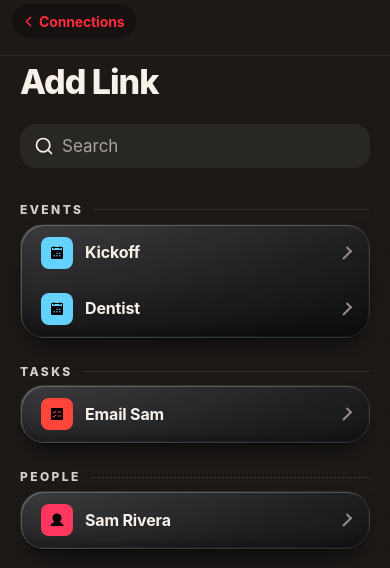
Test case: LinkPicker › search (HMN-F-26) › says so when nothing matches, without pretending there is nothing to link
In the field with placeholder "Search": (209, 146) [62,136,356,156], type "zzz"
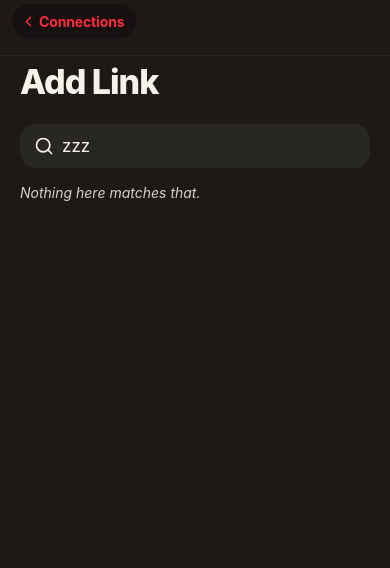
Expected: the text "Nothing here matches that." is shown, [20,184,200,201]
